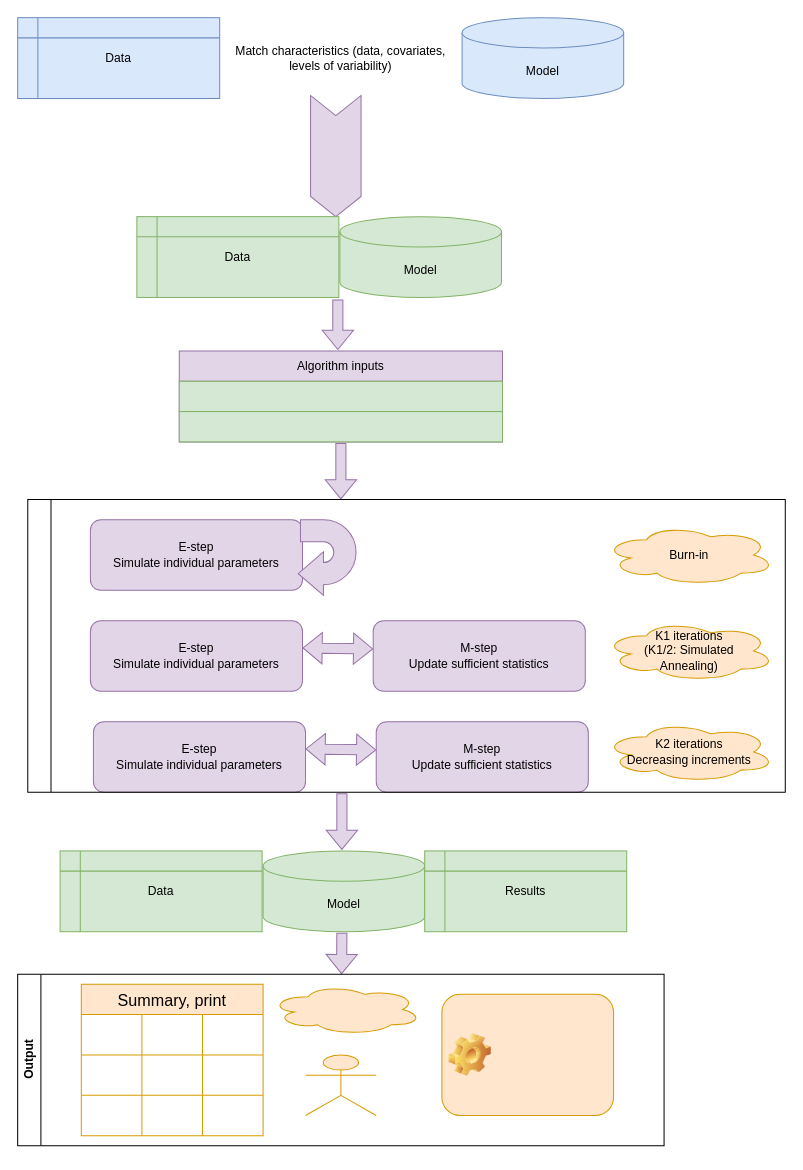
Some shapes in this 803 by 1170 pixel diagram are drawn without their labels. The shapes that lost their labels are listed below. From the top down, each one's box as (x1, y1, x2, y2) in pixels, then its label:
(178, 380, 502, 412): Initial population and individual parameters
(178, 411, 502, 442): Lists containing inputs needed for computational functions
(27, 498, 785, 792): SAEM algorithm
(269, 983, 422, 1035): Uncertainty estimates
(441, 993, 614, 1116): Diagnostic graphs
(305, 1054, 376, 1116): Simulated data
